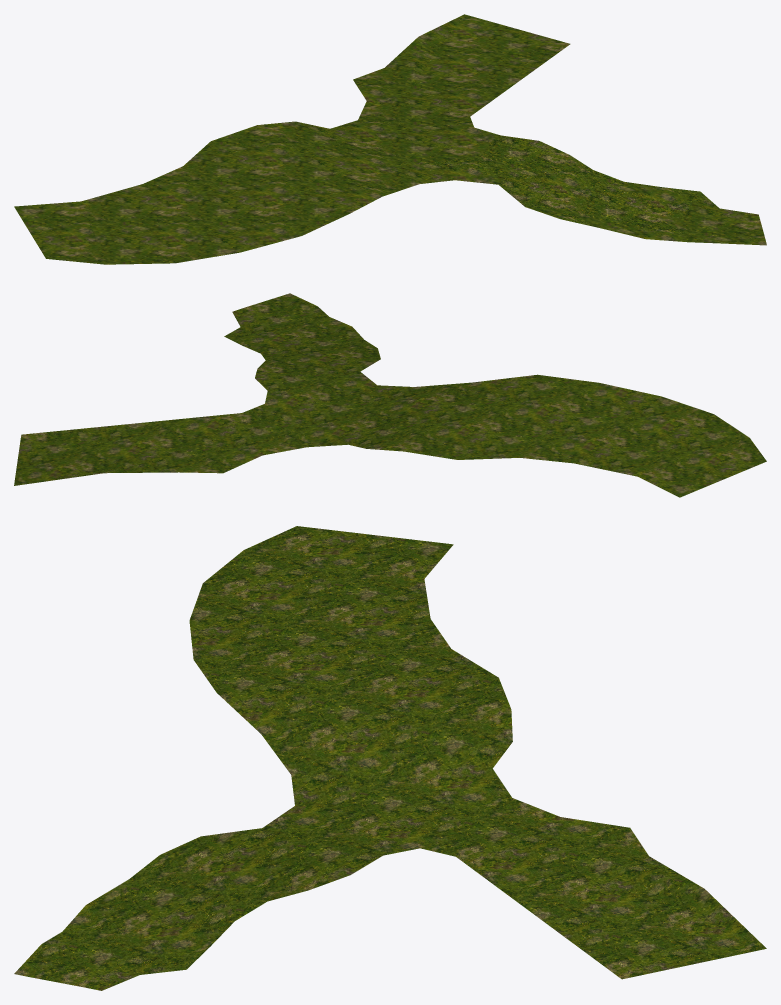
File: OVERHILL_A_01_LINE243.fbx
3 views of the same model, one above another, from view 1: azimuth 30°, elevation 25°; view 2: azimuth 150°, elevation 25°; view 3: azimuth 270°, elevation 25° (orthographic). The views are drawn at different scales.
Parts seen in each view (by area): view 1: OVERHILL_A_01_LINE243; view 2: OVERHILL_A_01_LINE243; view 3: OVERHILL_A_01_LINE243.
Boxes of the visible parts, x1,y1,x2,y2 form: OVERHILL_A_01_LINE243: [14, 14, 766, 264]; OVERHILL_A_01_LINE243: [14, 293, 766, 497]; OVERHILL_A_01_LINE243: [14, 526, 766, 990].
Bounding box in the file's own units: 198349 × 16327 × 155683.
Materials: 1 (1 with a texture image).
